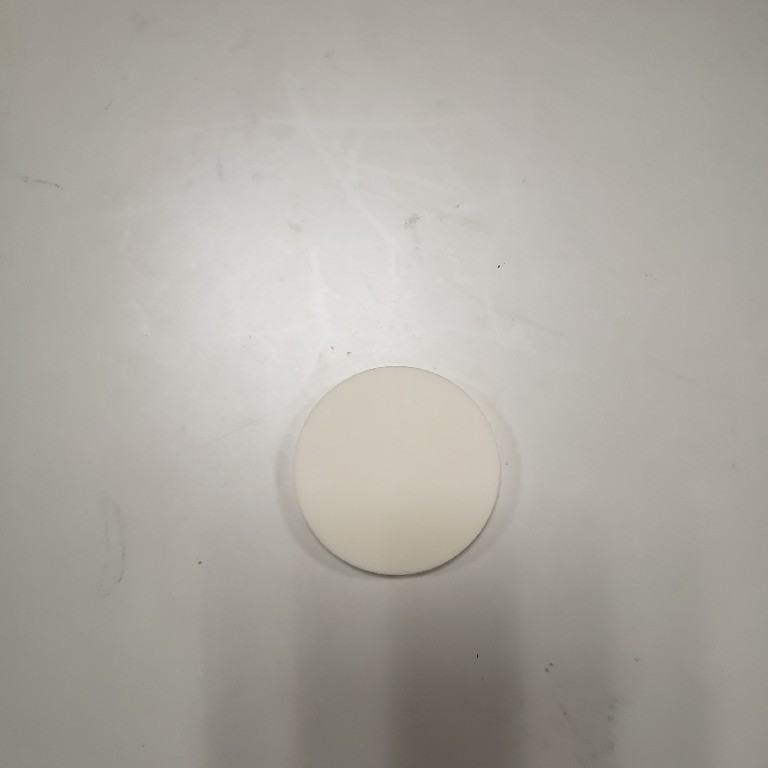ceramics: (285, 362, 513, 583)
